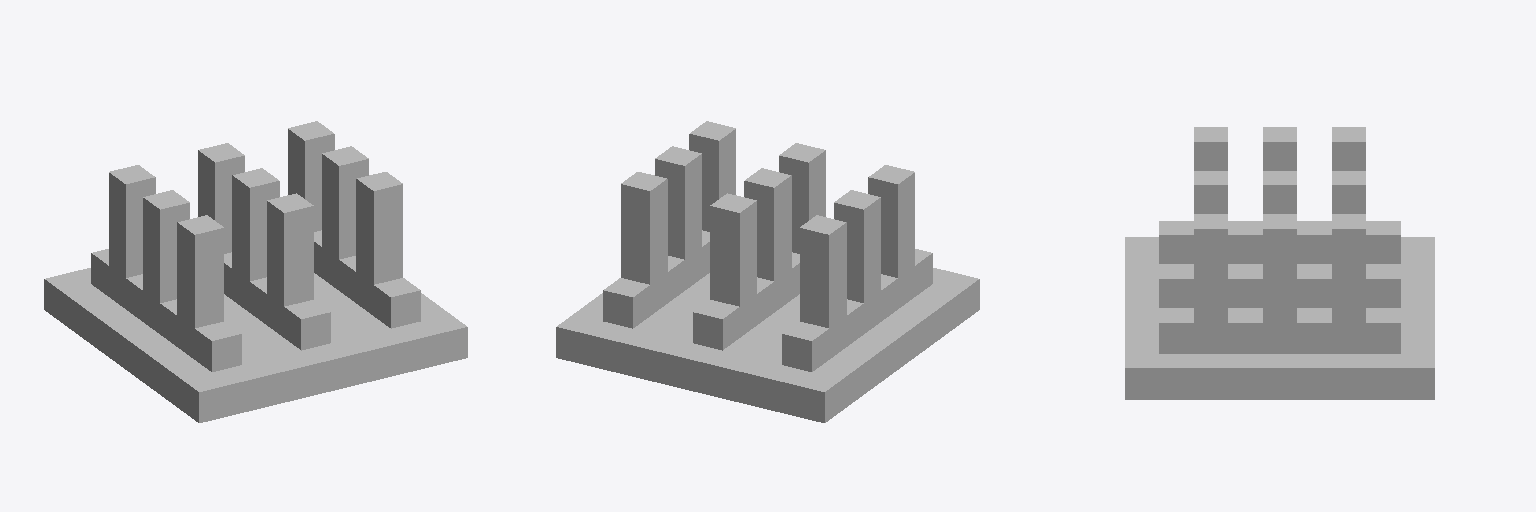
Rendered from Carrot 3.obj.
3 views of the same model, side by side, from view 1: azimuth 30°, elevation 25°; view 2: azimuth 150°, elevation 25°; view 3: azimuth 270°, elevation 25° (orthographic).
Visible parts, largest first — view 1: object 1; view 2: object 1; view 3: object 1.
Part boxes in pixels (bbox=[...]): object 1: bbox=[44, 121, 467, 422]; object 1: bbox=[556, 121, 979, 422]; object 1: bbox=[1125, 127, 1434, 399].
Bounding box in the file's own units: 0.9 × 0.5 × 0.9.